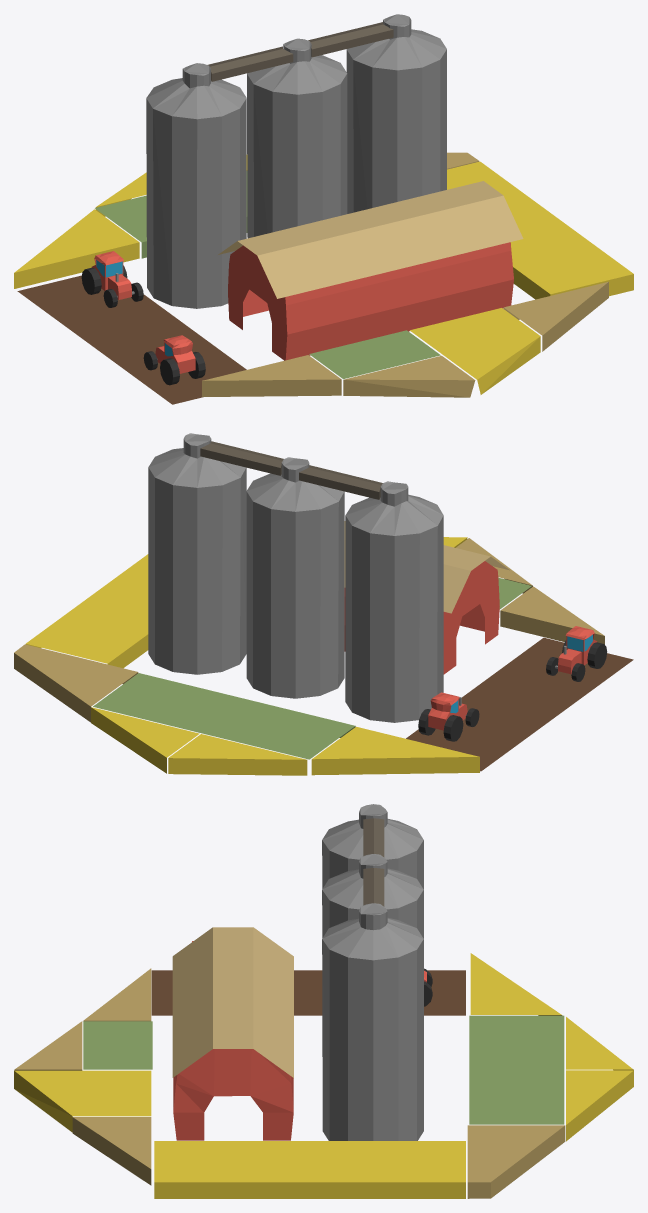
3 renders of one model, top to bottom at view 1: azimuth 30°, elevation 25°; view 2: azimuth 150°, elevation 25°; view 3: azimuth 270°, elevation 25°, orthographic. The views are drawn at different scales.
Visible parts, largest first — view 1: Cylinder.007, Cube.003, Cube.004, Cylinder.006, Cylinder, Plane, Cube, Cube.006, Cube.019, Cube.011, Cube.012, Cube.010 (+6 smaller); view 2: Cylinder.007, Cylinder, Cylinder.006, Cube.005, Plane, Cube, Cube.019, Cube.008, Cube.009, Cube.003, Cube.015, Cube.011 (+6 smaller); view 3: Cylinder, Cube, Cube.004, Cube.005, Cube.003, Cube.006, Cube.008, Cylinder.007, Cylinder.006, Plane, Cube.007, Cube.010 (+7 smaller).
Part boxes in pixels (x1,y1,x2,y2): Cylinder.007: (146,63,246,308); Cube.003: (228,242,513,360); Cube.004: (218,181,523,298); Cylinder.006: (247,38,347,238); Cylinder: (346,14,446,213); Plane: (17,275,246,404); Cube: (447,161,633,299); Cube.006: (410,308,540,394); Cube.019: (14,209,139,288); Cube.011: (202,355,341,396); Cube.012: (343,355,475,397); Cube.010: (309,330,440,378); Cylinder.007: (345,481,443,722); Cylinder: (148,433,246,674); Cylinder.006: (246,457,344,698); Cube.005: (93,673,355,759); Plane: (406,637,633,771); Cube: (25,554,148,668); Cube.019: (311,726,479,775); Cube.008: (14,644,138,722); Cube.009: (168,734,307,775); Cube.003: (344,561,499,674); Cube.015: (91,707,199,773); Cube.011: (500,586,604,644); Cylinder: (322,903,423,1140); Cube: (154,1141,465,1198); Cube.004: (172,927,293,1077); Cube.005: (469,1015,564,1124); Cube.003: (173,1049,293,1140); Cube.006: (14,1070,151,1132); Cube.008: (467,1125,565,1198); Cylinder.007: (322,804,423,889); Cylinder.006: (322,854,423,938); Plane: (151,970,465,1015); Cube.007: (72,1117,151,1185); Cube.010: (83,1021,152,1069).
Size of the model in its own units: 15.17 by 6.98 by 17.32.
